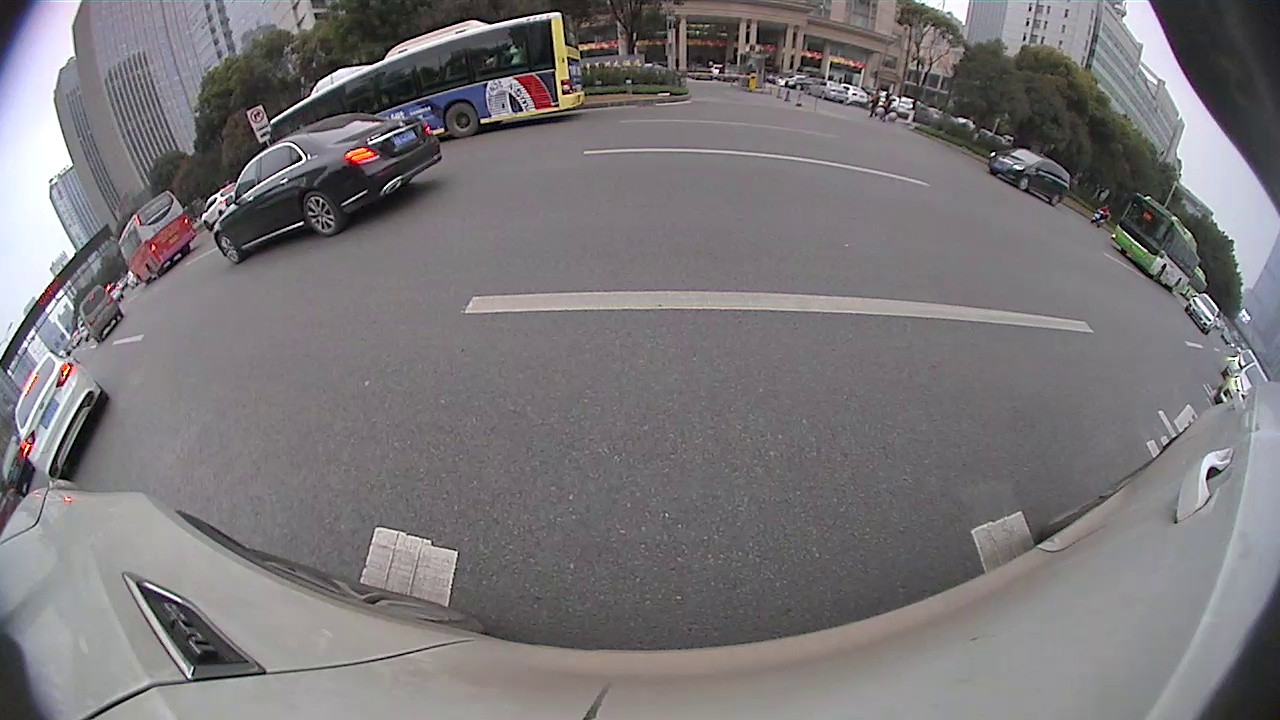bus: (267, 10, 586, 147), (1109, 191, 1202, 298), (116, 190, 199, 286)
car: (212, 110, 445, 265), (13, 349, 110, 483), (986, 145, 1073, 208), (75, 282, 125, 343), (1213, 358, 1272, 407), (1, 431, 35, 498), (200, 180, 240, 233), (1184, 290, 1222, 337), (1221, 346, 1254, 382)
front: (213, 230, 247, 265)
person: (870, 87, 880, 118)
rear: (299, 188, 344, 238), (440, 98, 480, 137), (50, 465, 77, 489), (90, 389, 115, 410)
rider: (1090, 202, 1114, 228)
